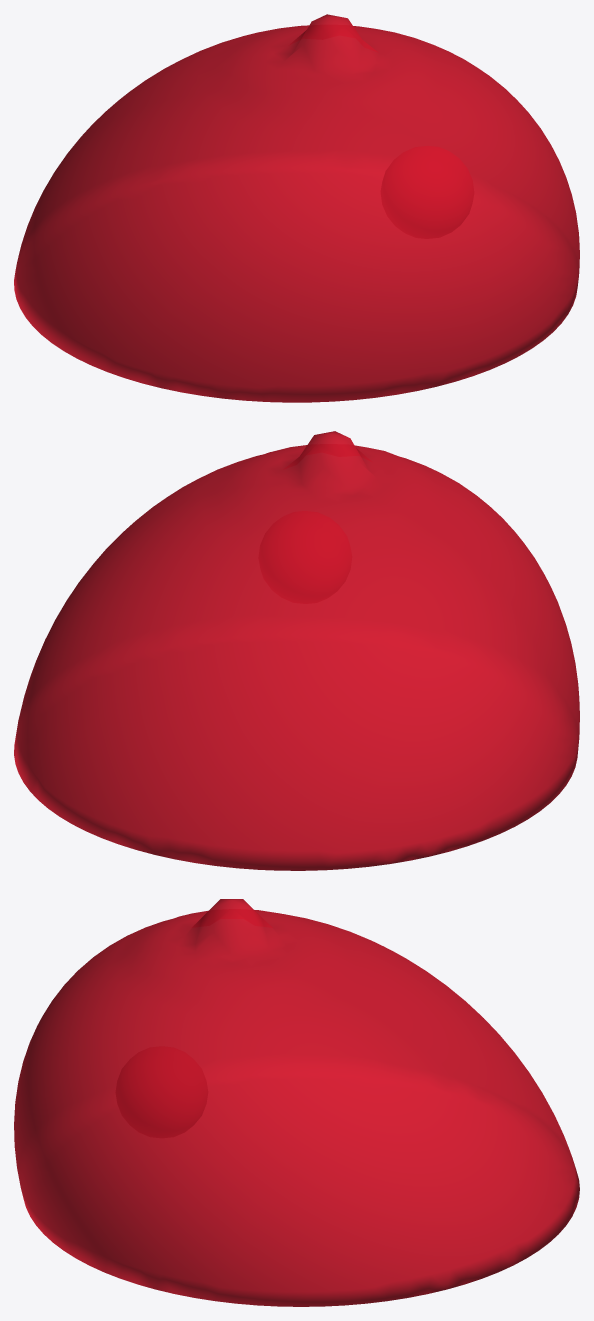
3 views of the same model, one above another, from view 1: azimuth 30°, elevation 25°; view 2: azimuth 150°, elevation 25°; view 3: azimuth 270°, elevation 25° (orthographic).
Bounding box in the file's own units: 2.07 × 1.18 × 2.1.
Materials: 1 (1 with a texture image).
